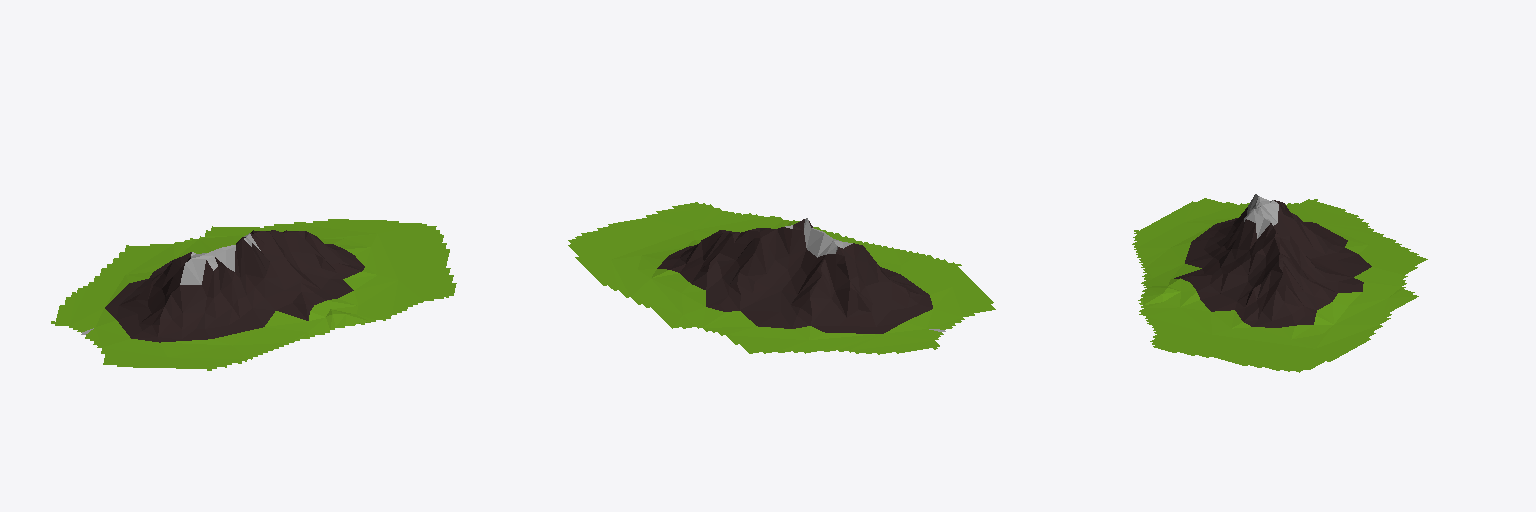
Rendered from mountainMaya.obj.
3 renders of one model, left to right at view 1: azimuth 30°, elevation 25°; view 2: azimuth 150°, elevation 25°; view 3: azimuth 270°, elevation 25°, orthographic.
Visible parts, largest first — view 1: part:Mesh; view 2: part:Mesh; view 3: part:Mesh.
Part boxes in pixels (x1,y1,x2,y2): part:Mesh: (51,219,456,370); part:Mesh: (568,202,995,354); part:Mesh: (1132,194,1427,372).
Size of the model in its own units: 36.86 by 6.43 by 24.89.